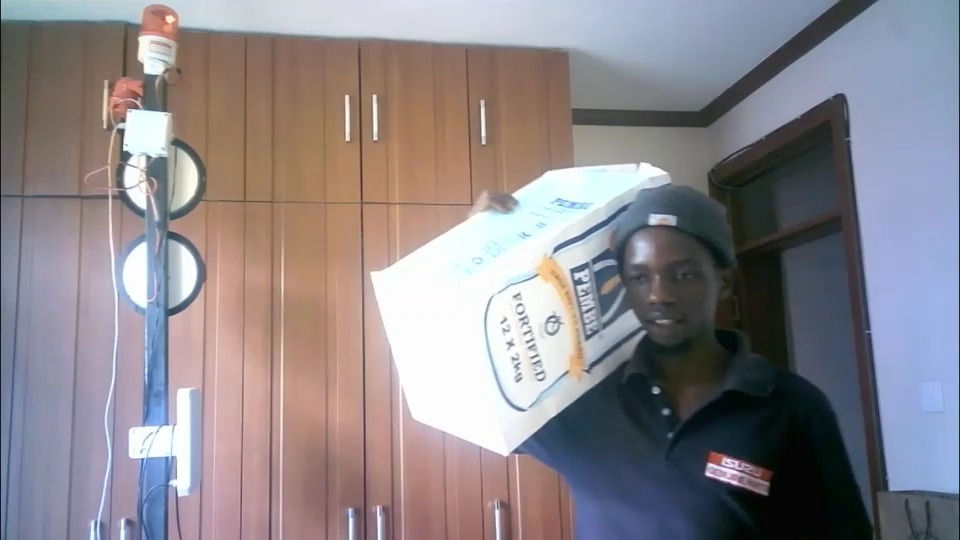wheat_flour_blue_label: (372, 162, 692, 455)
